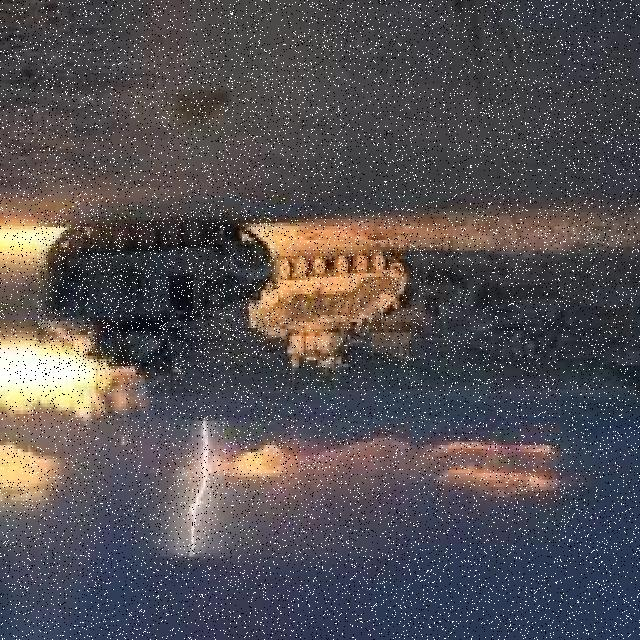MIL_MBT: (38, 210, 275, 369), (281, 252, 411, 373)
